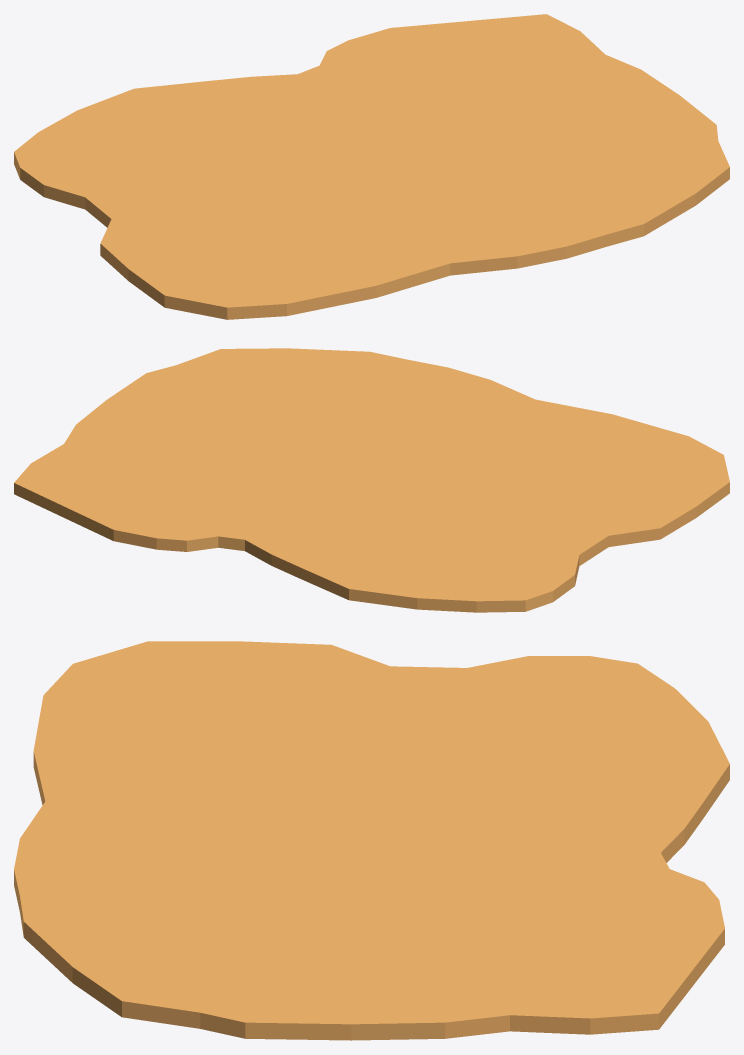
The model's file is Sand 1.FBX.
3 renders of one model, top to bottom at view 1: azimuth 30°, elevation 25°; view 2: azimuth 150°, elevation 25°; view 3: azimuth 270°, elevation 25°, orthographic. The views are drawn at different scales.
Visible parts, largest first — view 1: Plane001; view 2: Plane001; view 3: Plane001.
Part boxes in pixels (x1=…): Plane001: x1=14, y1=14, x2=729, y2=319; Plane001: x1=14, y1=348, x2=729, y2=612; Plane001: x1=14, y1=641, x2=729, y2=1040.
Bounding box in the file's own units: 126 × 2.49 × 99.66.
